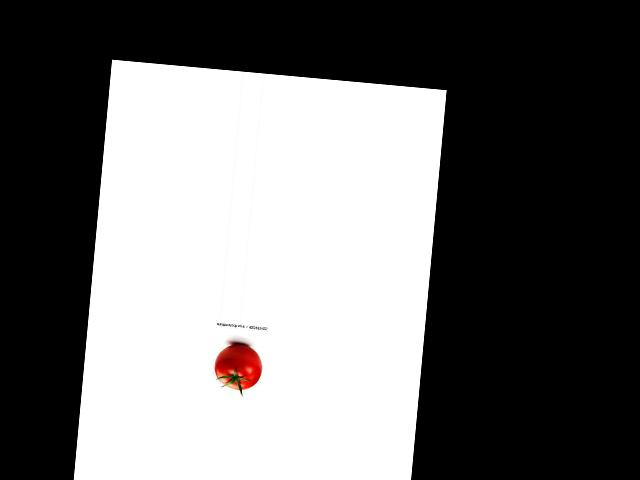tomato: (213, 342, 263, 391)
